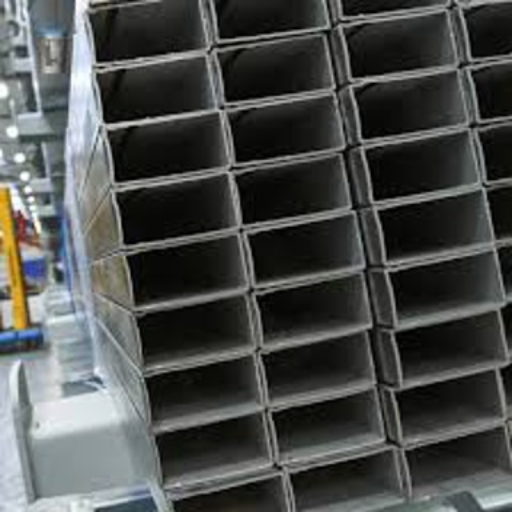Square: (129, 237, 244, 304), (148, 356, 256, 427), (160, 414, 268, 485), (119, 176, 235, 242), (110, 113, 225, 179), (259, 273, 369, 342), (140, 297, 250, 366), (383, 189, 491, 258), (252, 215, 360, 282), (393, 252, 500, 318), (356, 73, 466, 136), (223, 36, 330, 100), (232, 96, 339, 159), (267, 333, 370, 398), (399, 314, 503, 378), (369, 133, 474, 196), (102, 59, 212, 119), (240, 159, 345, 220), (275, 394, 380, 454), (348, 14, 450, 75), (94, 1, 203, 58), (410, 431, 511, 492), (293, 455, 399, 511), (400, 375, 500, 432), (219, 1, 323, 35), (177, 480, 284, 510), (467, 5, 510, 55), (475, 65, 510, 116), (483, 127, 511, 176), (344, 1, 429, 11), (492, 190, 510, 234), (502, 371, 510, 399), (503, 308, 511, 335), (503, 251, 509, 285), (509, 343, 510, 344)
